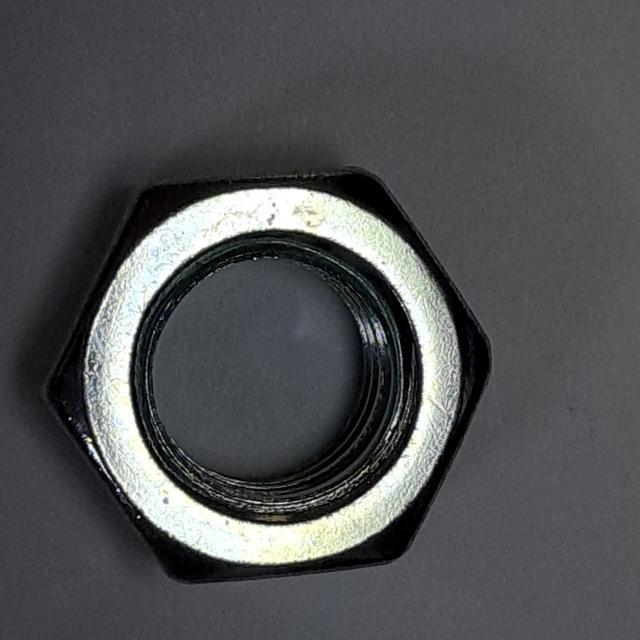Excellent: (28, 153, 504, 595)
